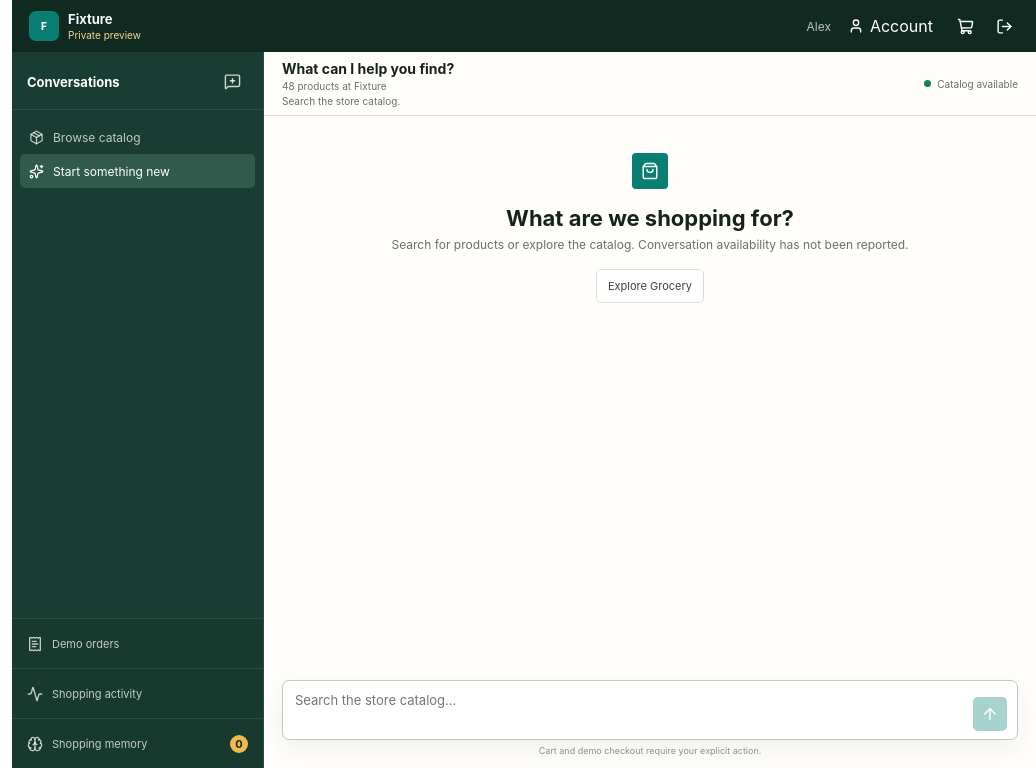
ShopperApp › does not offer a new public guest visit from a private preview
Step 1. Type "Question" into the text box named "Shopping request" → (628, 710), box [291,689,965,731]
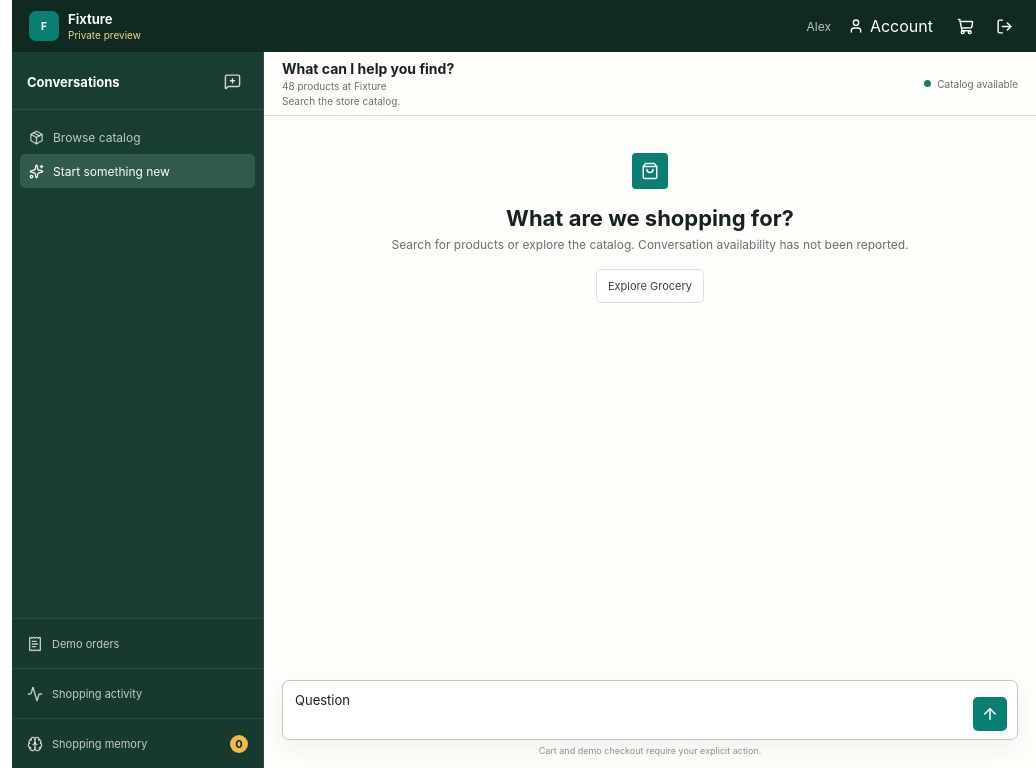
Step 2. Click the button named "Send request" → (990, 714), box [973,697,1007,731]
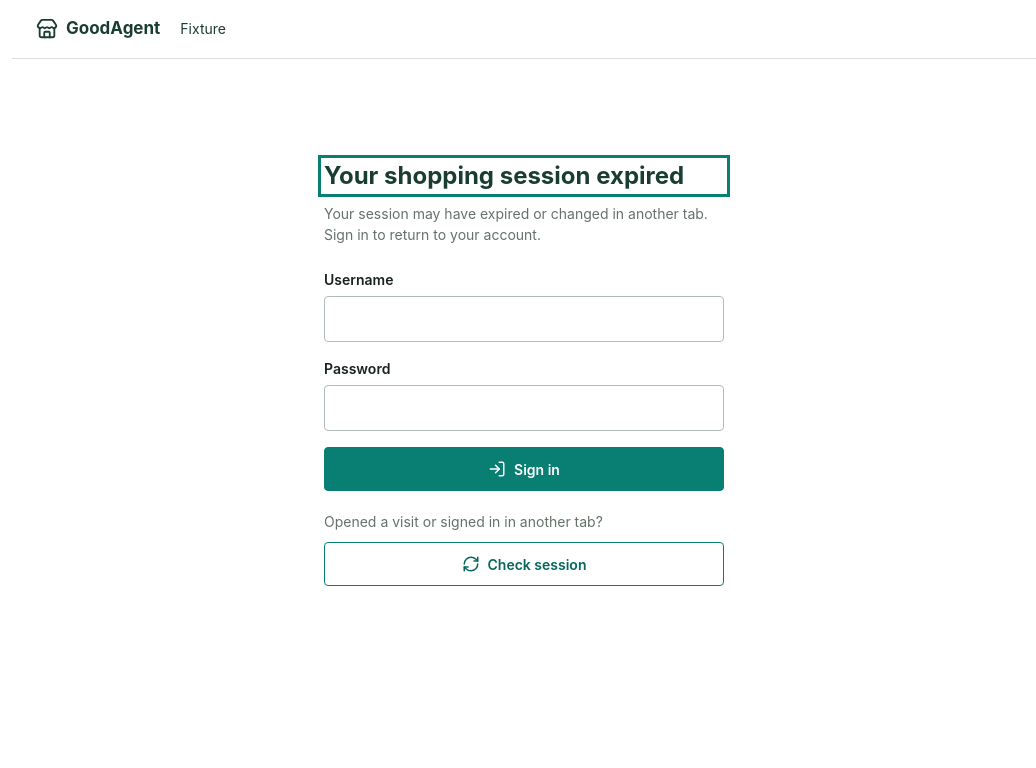
Expected: the heading "Your shopping session expired" is shown, [324,161,724,191]
